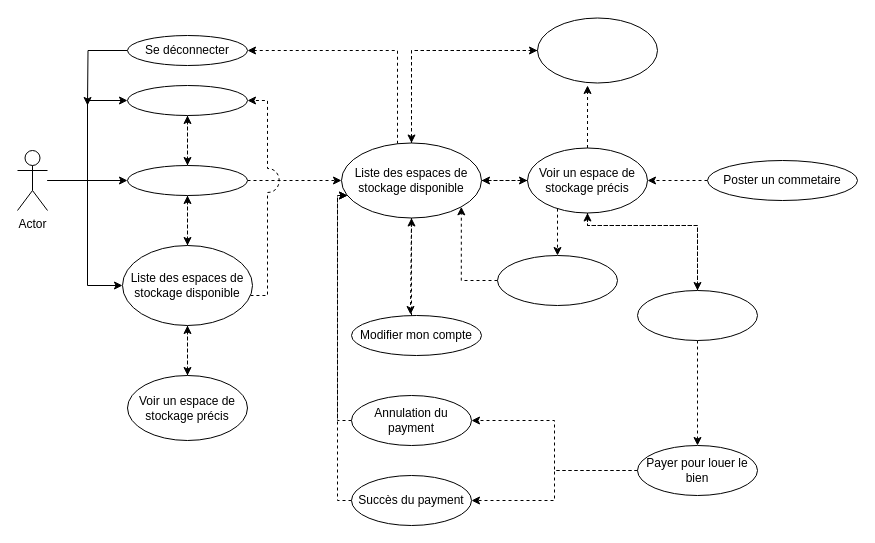
Image size: 875x543. Some labels were removed from this diagram. Here are the shapes that lost their labels. From the top down, the centre of each, then its label:
At point 597,50: "Créer un espace de stockage".
At point 187,100: "S'inscrire".
At point 187,180: "Se connecter".
At point 557,280: "Supprimer le bien".
At point 697,315: "Faire une reservation".
